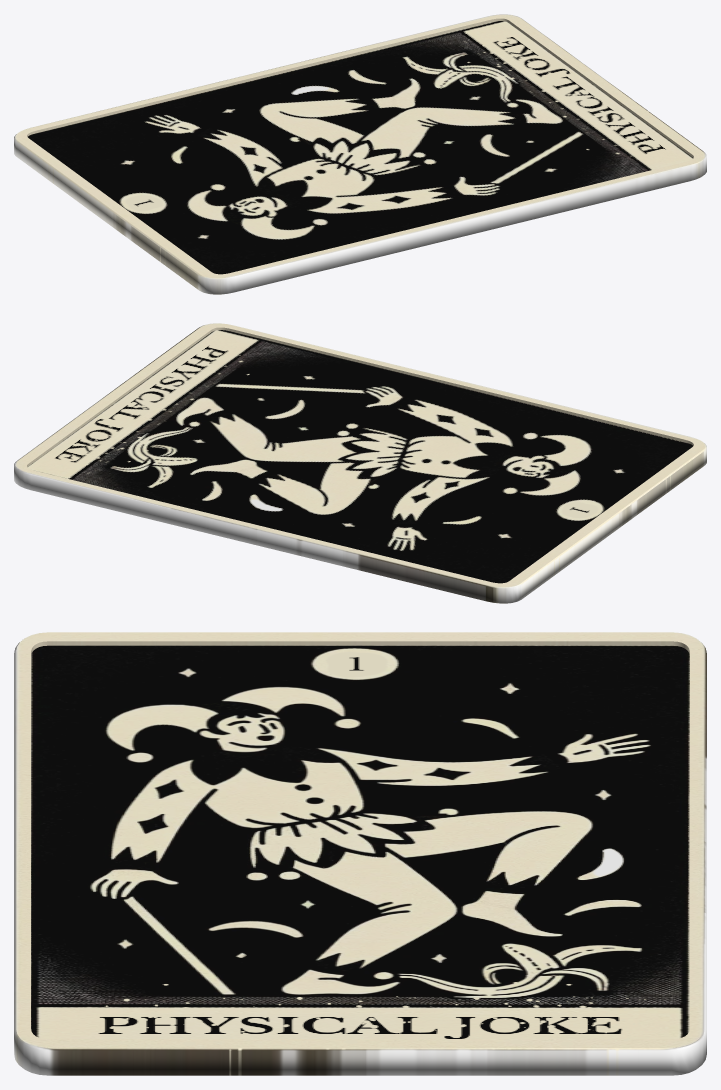
File: card.fbx
The picture shows the model from 3 angles, top to bottom: view 1: azimuth 30°, elevation 25°; view 2: azimuth 150°, elevation 25°; view 3: azimuth 270°, elevation 25°; orthographic projection. The views are drawn at different scales.
Parts seen in each view (by area): view 1: Cube; view 2: Cube; view 3: Cube.
Part boxes in pixels (x1,y1,x2,y2): Cube: (14, 14, 706, 294); Cube: (14, 323, 706, 603); Cube: (14, 632, 706, 1075).
Size of the model in its own units: 200 by 6.12 by 140.
1 material, 1 textured.
